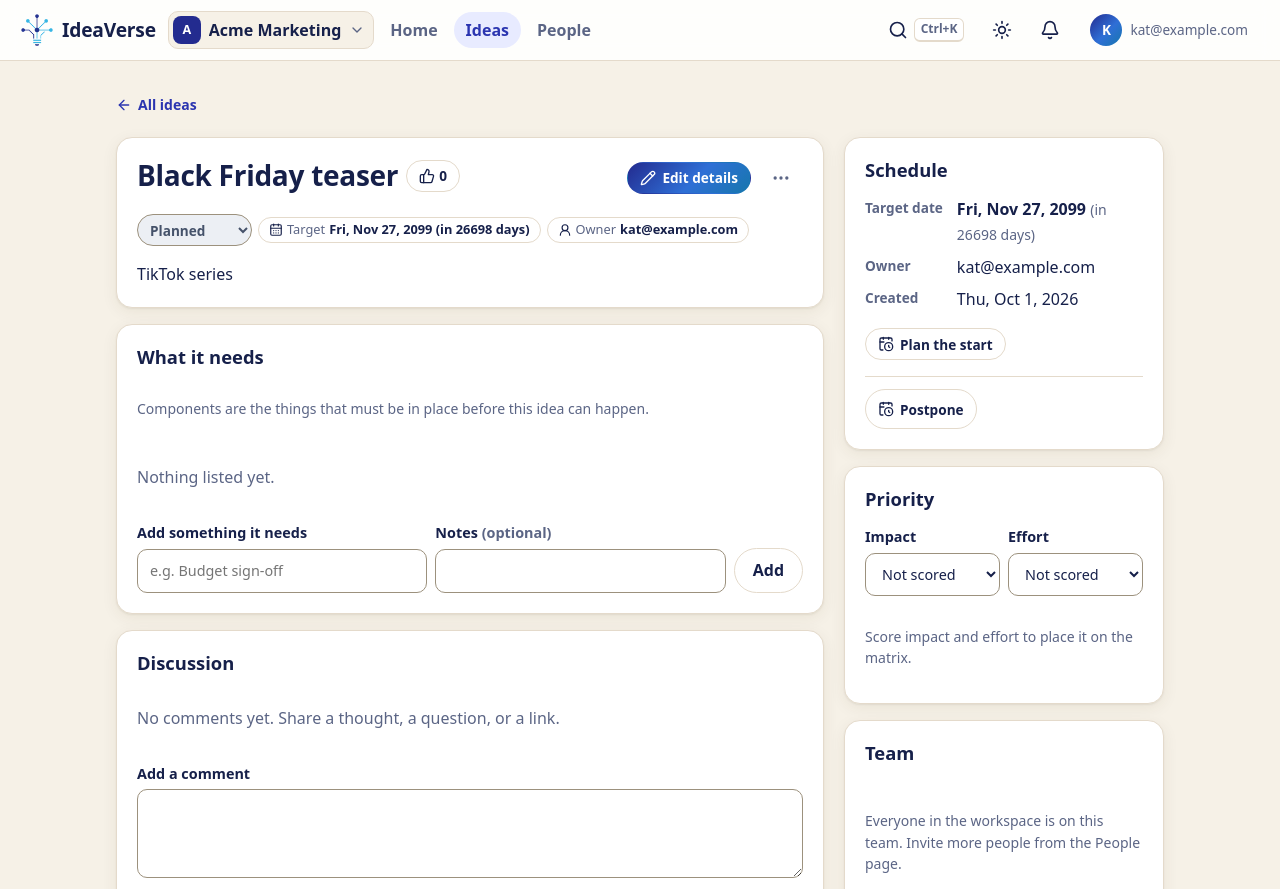
Test: Discussion › posts a comment
Type "Let’s do it" into the text box labelled "Add a comment" at x=470, y=833, box [137,789,803,878]
(page scrolled)
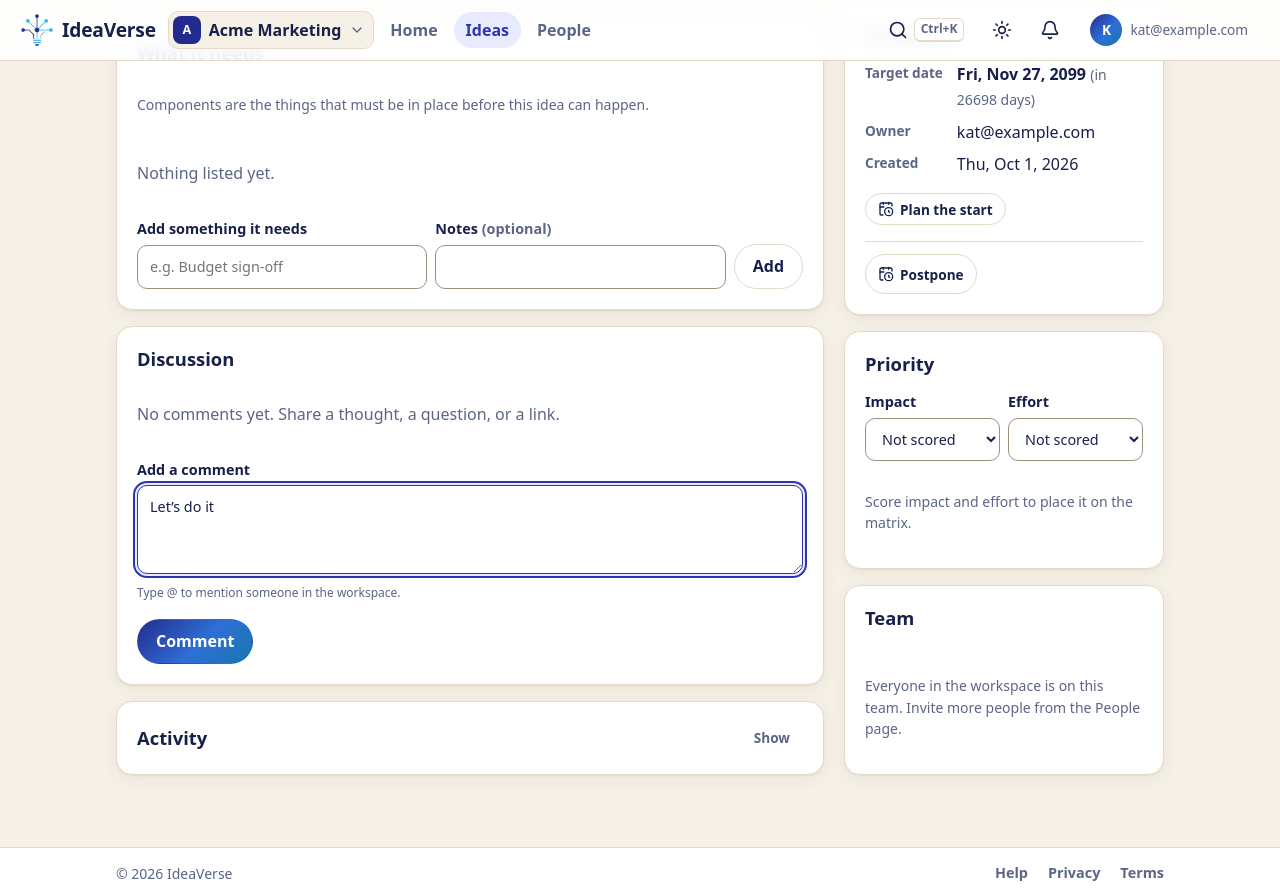
Click the button "Comment" at x=195, y=641, box [137,619,253,664]
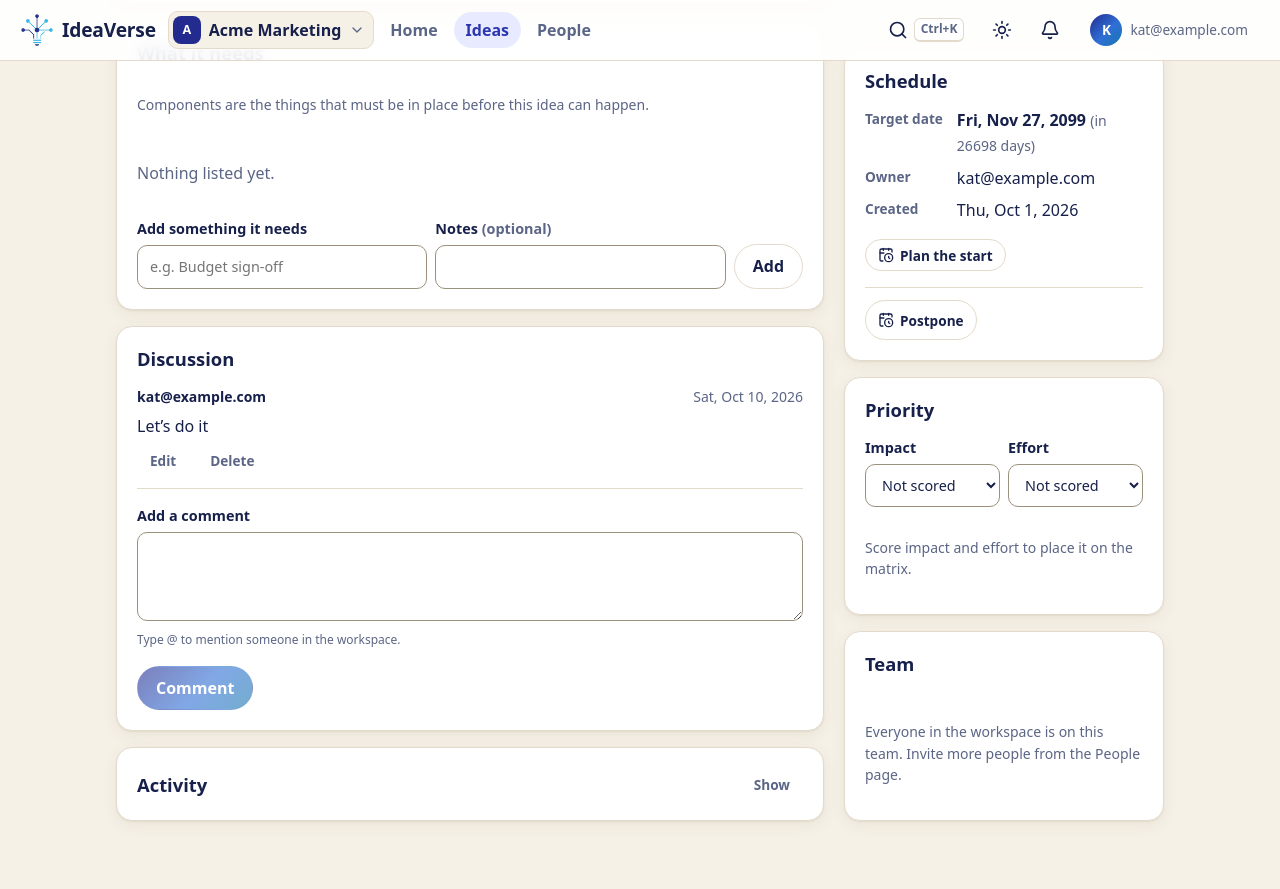
Now the text "Let’s do it" is shown, box [137,415,208,437]
Now the text box labelled "Add a comment" is empty, box [137,532,803,621]
